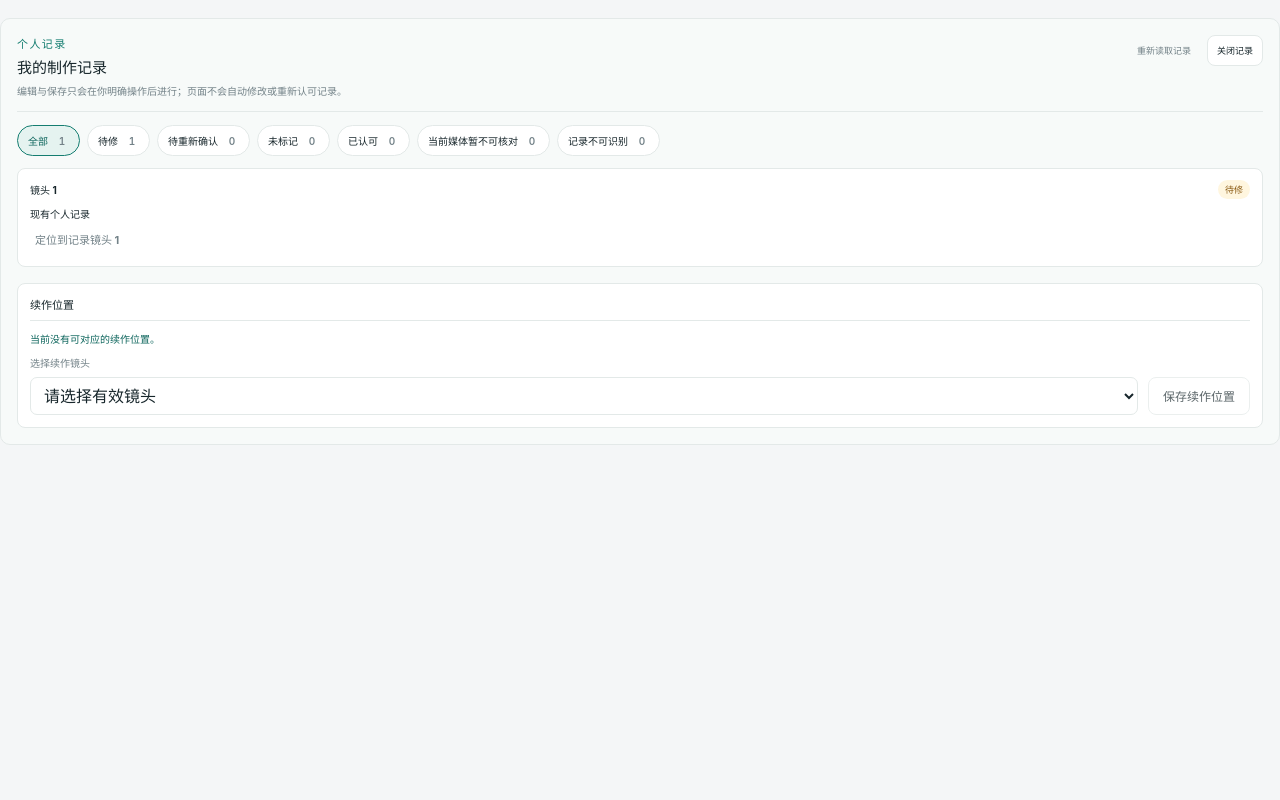
Test: personal production resume panel › retains a rejected resume intent until an explicit reread and a new choice
Check: the text "现有个人记录" is shown, box [30, 208, 90, 220]
Select "镜头 1" in the dropdown labelled "选择续作镜头": (584, 396) [30, 376, 1138, 414]
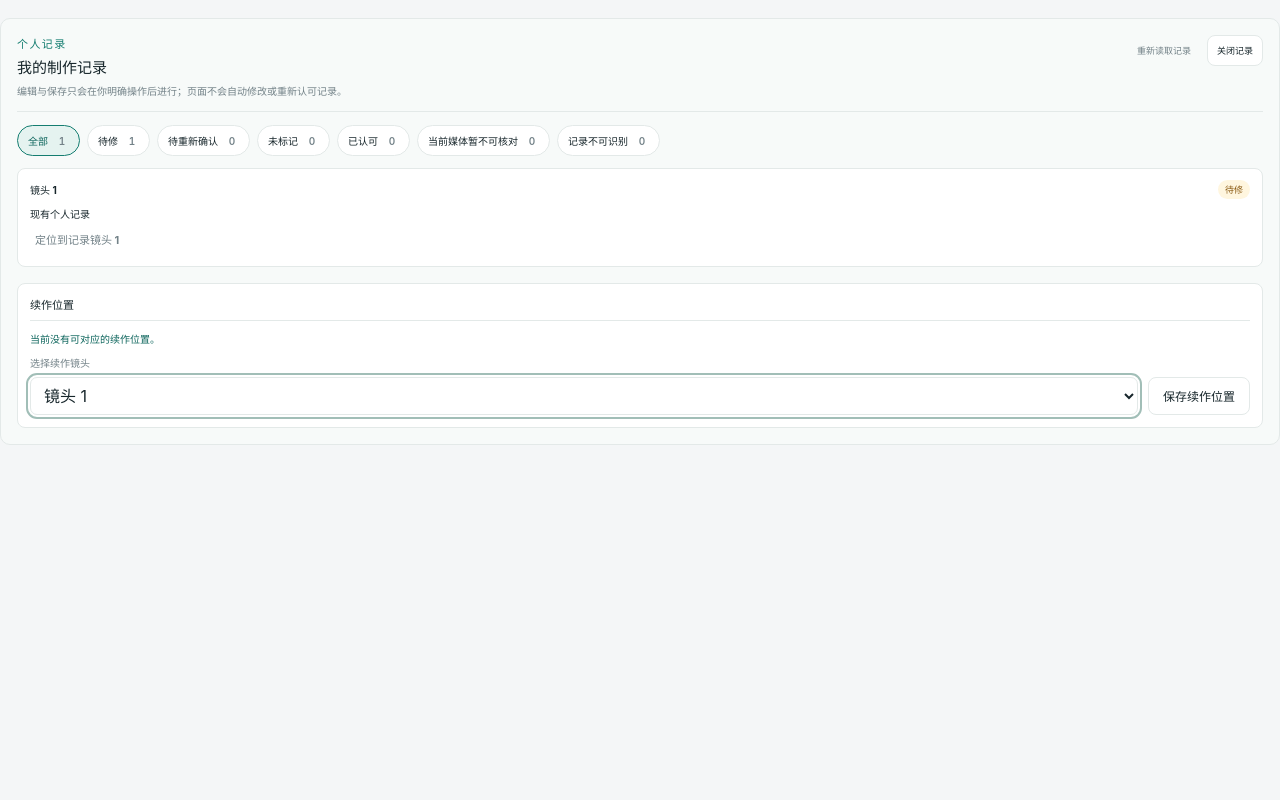
Click the button "保存续作位置": (1199, 396) [1148, 376, 1250, 414]
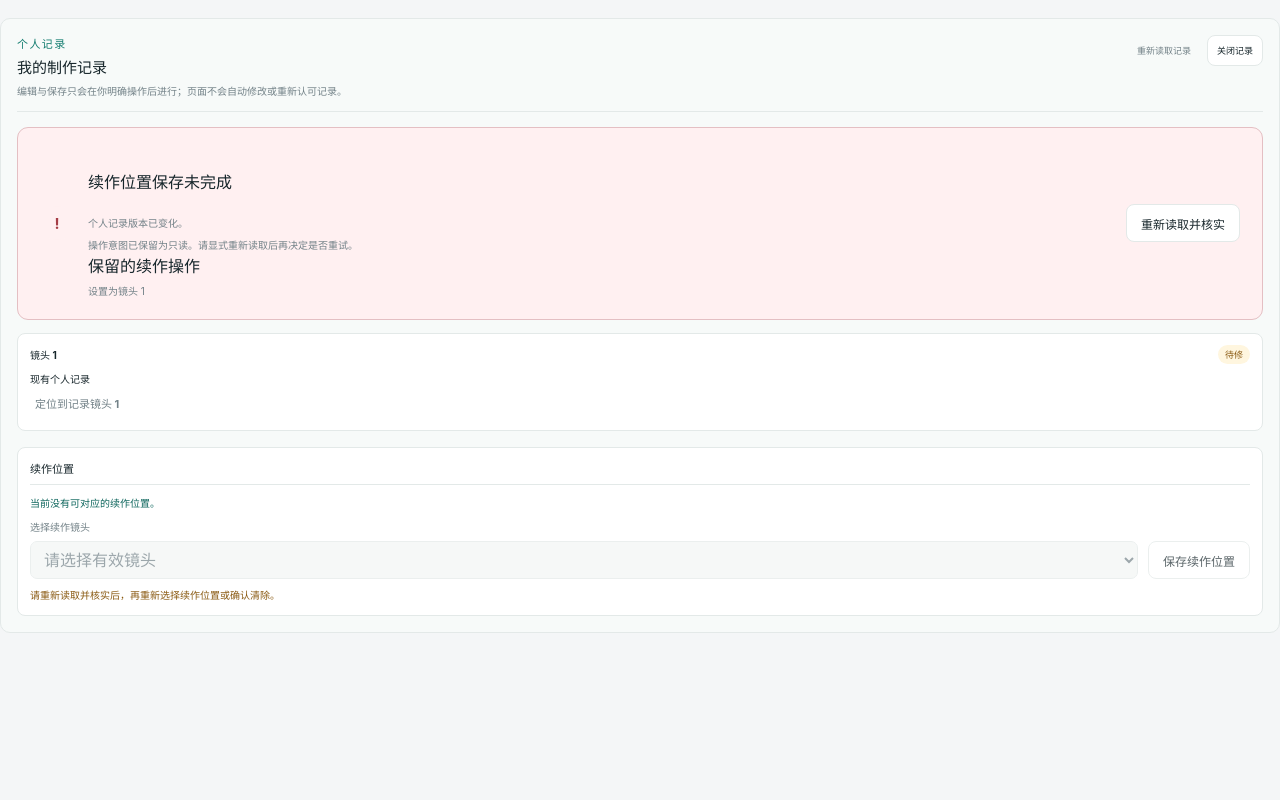
Check: the message shows "续作位置保存未完成", box [88, 172, 232, 192]
Check: the message shows "操作意图已保留为只读", box [88, 238, 358, 250]
Check: the button "重新读取并核实" is shown
Click the button "重新读取并核实": (1183, 223) [1126, 204, 1240, 242]
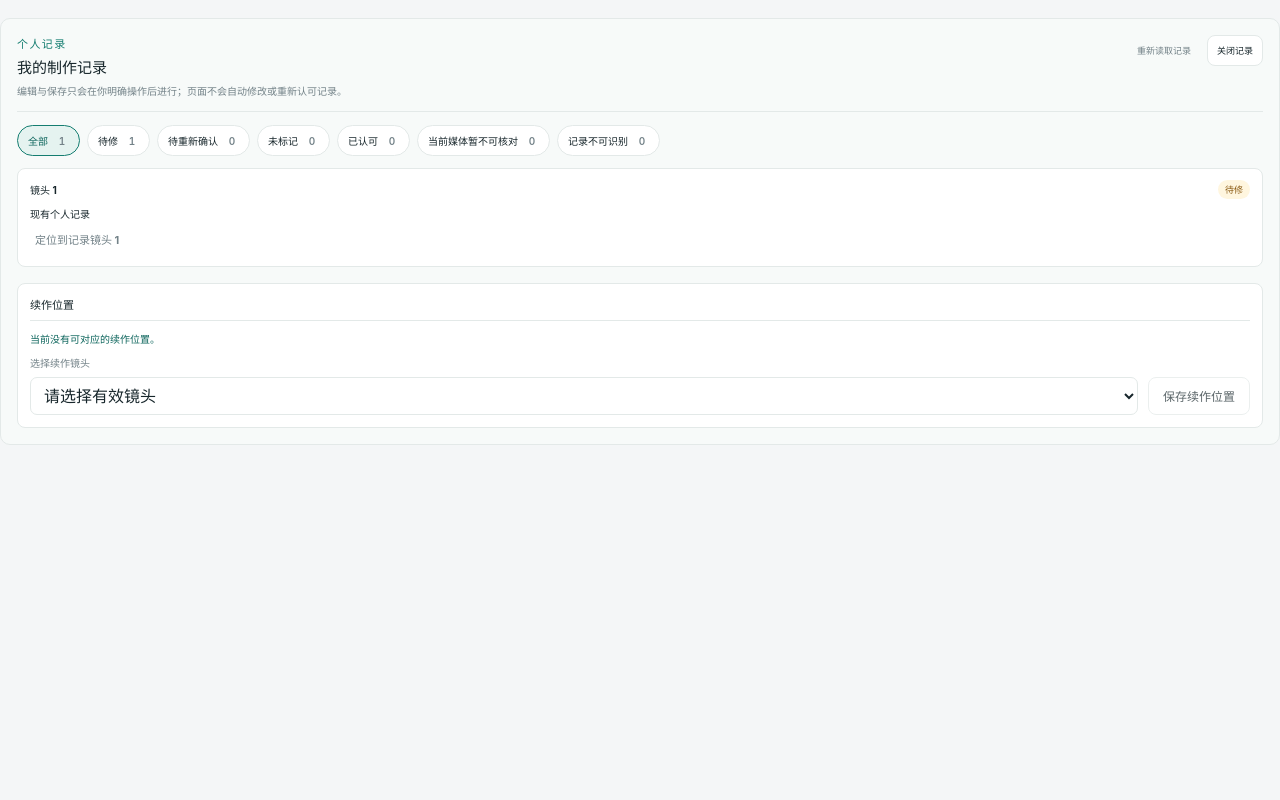
Select "镜头 1" in the dropdown labelled "选择续作镜头": (584, 396) [30, 376, 1138, 414]
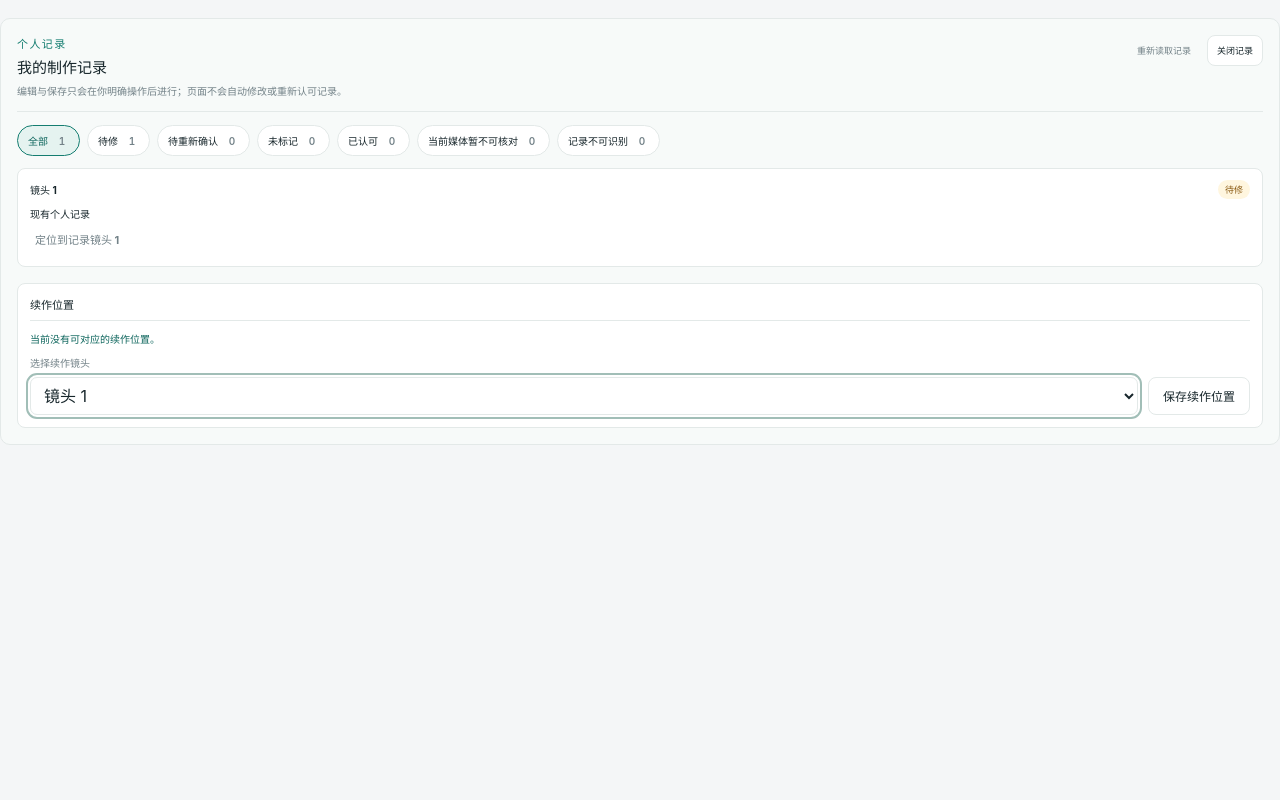
Click the button "保存续作位置": (1199, 396) [1148, 376, 1250, 414]
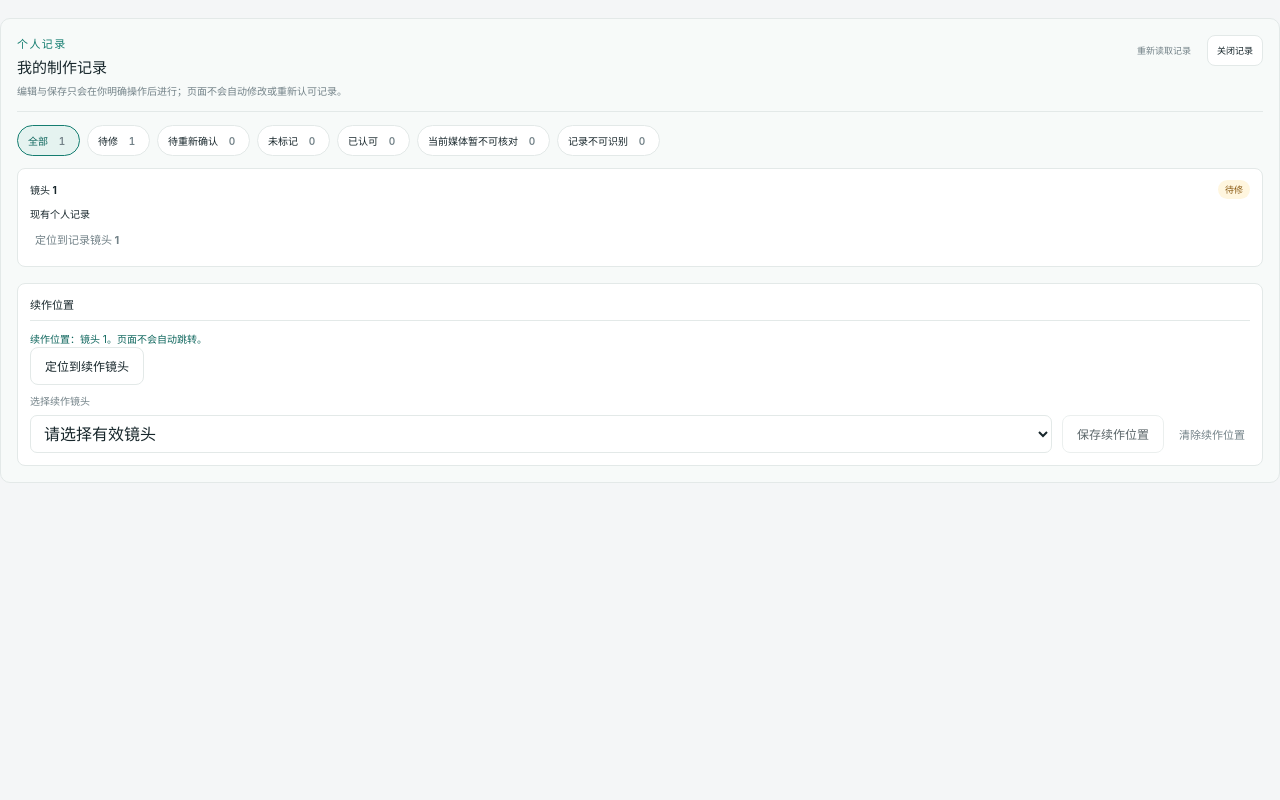
Check: the text "续作位置：镜头 1。页面不会自动跳转。" is shown, box [30, 320, 1250, 346]
